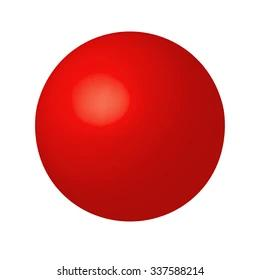Red_Ball: (11, 30, 237, 228)
